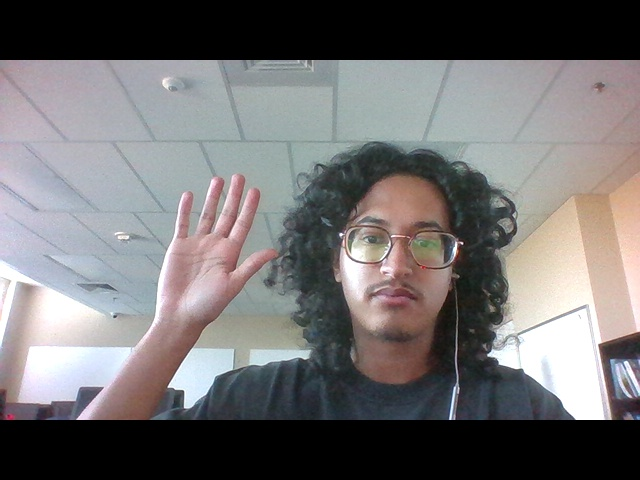hello: (149, 169, 285, 333)
